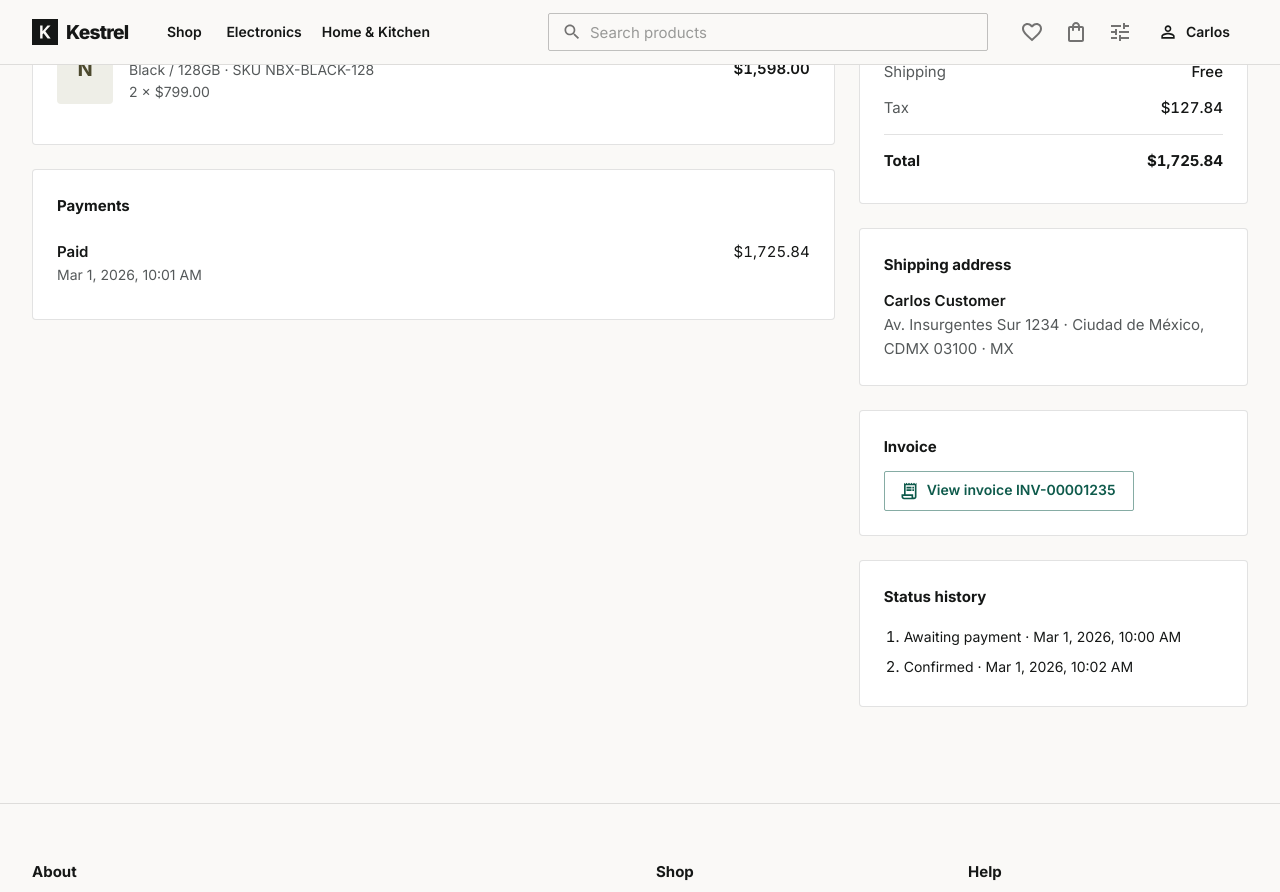
Test: order detail › shows progress, payments and the invoice of a paid order
(page scrolled)
Expected: the text "Paid" is shown, [57,242,88,261]
Click the button "View invoice INV-00001235". click: (1009, 491)
box: [884,471,1134,511]
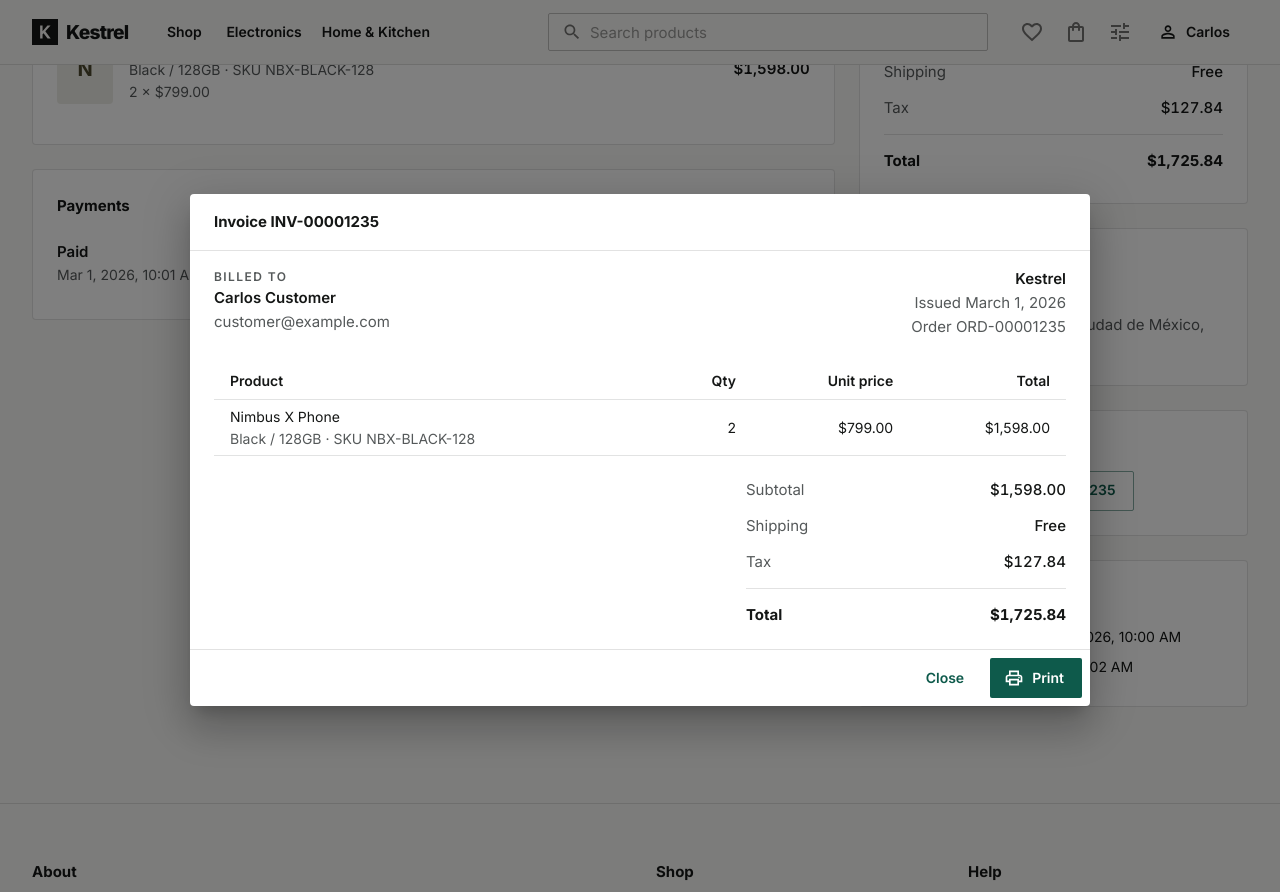
Result: the text "customer@example.com" is shown at [214,312,390,331]
Result: the button "Print" is shown at [990,658,1082,698]
